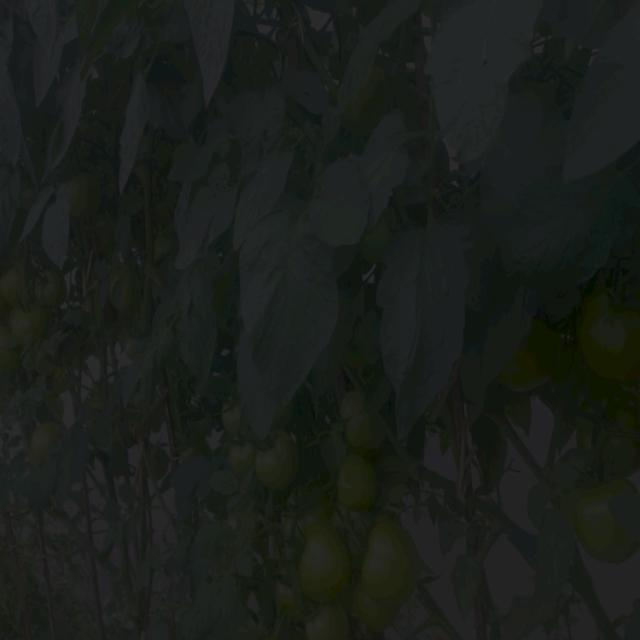tomato: (585, 284, 640, 388), (579, 481, 640, 565), (364, 516, 417, 599), (298, 516, 344, 597), (260, 433, 311, 502), (341, 388, 393, 451), (598, 414, 640, 476), (496, 353, 550, 395), (348, 590, 399, 630), (353, 74, 391, 123), (307, 600, 353, 640), (275, 578, 314, 624), (361, 221, 398, 268), (7, 312, 52, 349), (340, 455, 371, 501), (220, 400, 254, 440), (26, 421, 60, 461), (223, 434, 255, 476), (34, 266, 66, 306), (61, 175, 90, 219), (6, 264, 30, 310)
